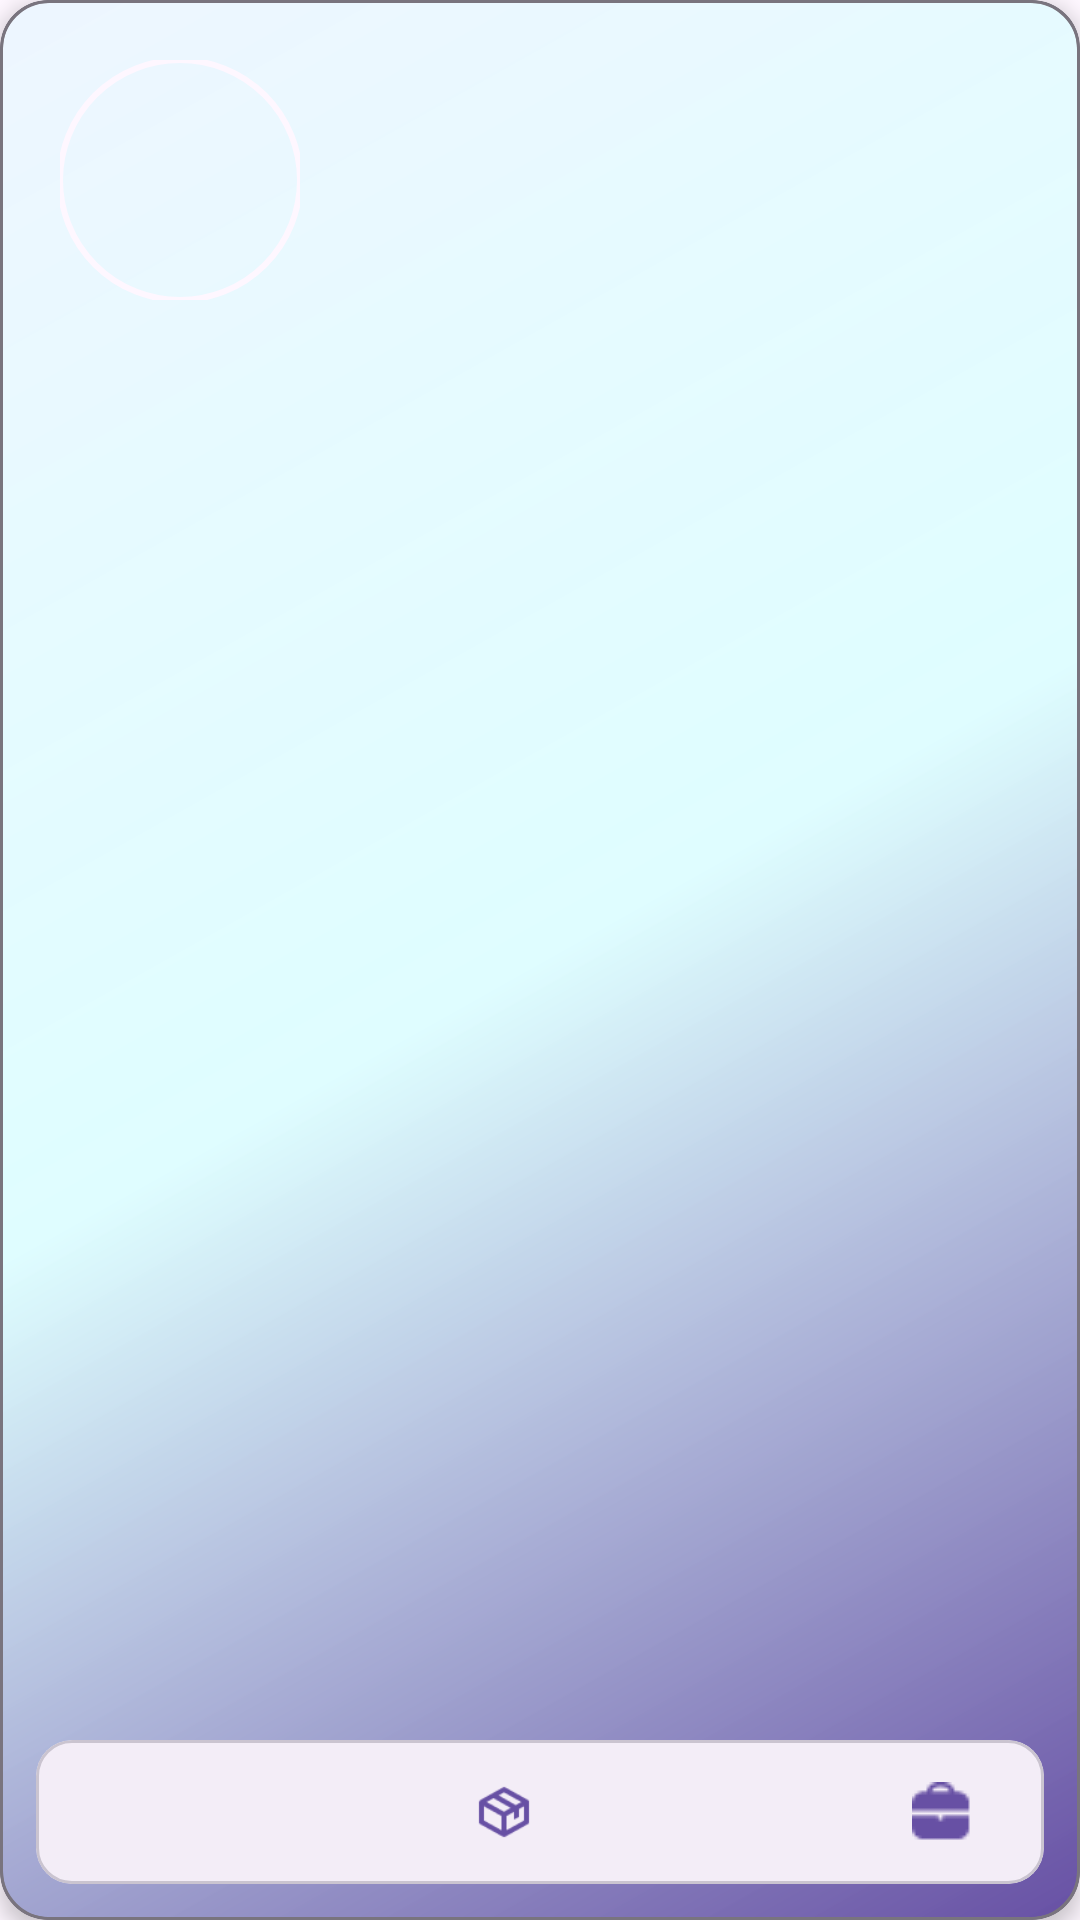

Icons on this 1080 x 1920 Android screen, each with its box as (x1, y1, x2, y2):
experience: (912, 1782, 970, 1840)
track order: (479, 1787, 529, 1837)
